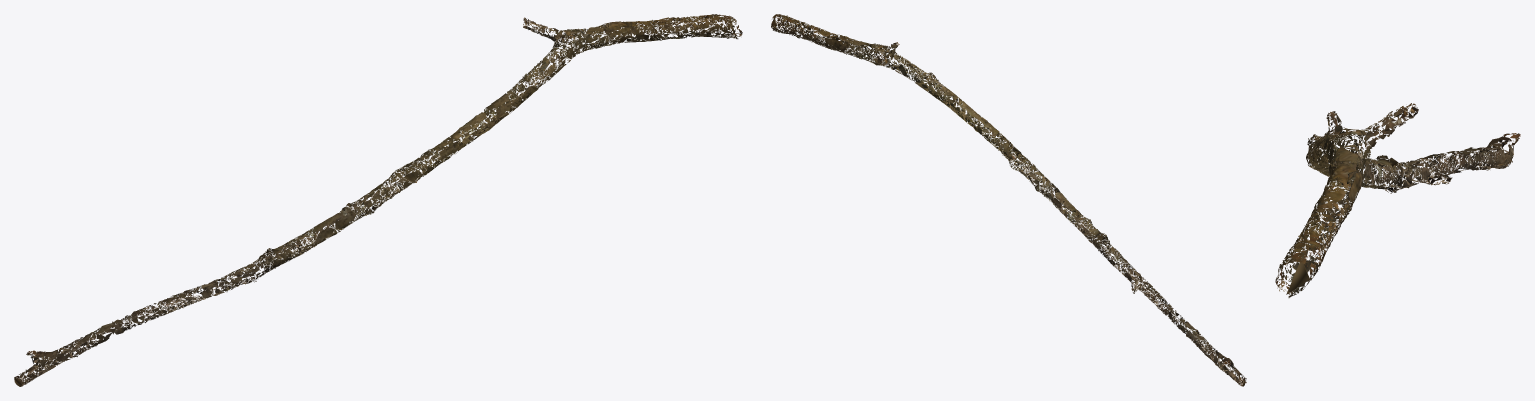
Rendered from stick_de_exu.glb.
3 views of the same model, side by side, from view 1: azimuth 30°, elevation 25°; view 2: azimuth 150°, elevation 25°; view 3: azimuth 270°, elevation 25° (orthographic). The views are drawn at different scales.
Parts seen in each view (by area): view 1: complete2_LOD0, complete2_LOD0_complete2_LOD0_u0_v0_0.003, complete2_LOD0_complete2_LOD0_u0_v0_0.007, complete2_LOD0_complete2_LOD0_u0_v0_0.006, complete2_LOD0_complete2_LOD0_u0_v0_0.001, complete2_LOD0_complete2_LOD0_u0_v0_0.005, complete2_LOD0_complete2_LOD0_u0_v0_0.002, complete2_LOD0_complete2_LOD0_u0_v0_0.008, complete2_LOD0_complete2_LOD0_u0_v0_0.004, complete2_LOD0_complete2_LOD0_u0_v0_0.009; view 2: complete2_LOD0, complete2_LOD0_complete2_LOD0_u0_v0_0.001, complete2_LOD0_complete2_LOD0_u0_v0_0.007, complete2_LOD0_complete2_LOD0_u0_v0_0.003, complete2_LOD0_complete2_LOD0_u0_v0_0.006, complete2_LOD0_complete2_LOD0_u0_v0_0.005, complete2_LOD0_complete2_LOD0_u0_v0_0.002, complete2_LOD0_complete2_LOD0_u0_v0_0.008, complete2_LOD0_complete2_LOD0_u0_v0_0.004, complete2_LOD0_complete2_LOD0_u0_v0_0.009; view 3: complete2_LOD0_complete2_LOD0_u0_v0_0.003, complete2_LOD0_complete2_LOD0_u0_v0_0.005, complete2_LOD0, complete2_LOD0_complete2_LOD0_u0_v0_0.007, complete2_LOD0_complete2_LOD0_u0_v0_0.004, complete2_LOD0_complete2_LOD0_u0_v0_0.002, complete2_LOD0_complete2_LOD0_u0_v0_0.006, complete2_LOD0_complete2_LOD0_u0_v0_0.009, complete2_LOD0_complete2_LOD0_u0_v0_0.008, complete2_LOD0_complete2_LOD0_u0_v0_0.001.
Part boxes in pixels (left/top/right/bottom): complete2_LOD0: left=14, top=14, right=742, bottom=386; complete2_LOD0_complete2_LOD0_u0_v0_0.003: left=531, top=17, right=738, bottom=84; complete2_LOD0_complete2_LOD0_u0_v0_0.007: left=18, top=260, right=267, bottom=383; complete2_LOD0_complete2_LOD0_u0_v0_0.006: left=117, top=203, right=359, bottom=333; complete2_LOD0_complete2_LOD0_u0_v0_0.001: left=358, top=73, right=531, bottom=217; complete2_LOD0_complete2_LOD0_u0_v0_0.005: left=252, top=18, right=609, bottom=279; complete2_LOD0_complete2_LOD0_u0_v0_0.002: left=384, top=14, right=730, bottom=197; complete2_LOD0_complete2_LOD0_u0_v0_0.008: left=23, top=241, right=313, bottom=379; complete2_LOD0_complete2_LOD0_u0_v0_0.004: left=524, top=17, right=735, bottom=84; complete2_LOD0_complete2_LOD0_u0_v0_0.009: left=181, top=16, right=687, bottom=301; complete2_LOD0: left=771, top=14, right=1246, bottom=386; complete2_LOD0_complete2_LOD0_u0_v0_0.001: left=920, top=71, right=1047, bottom=191; complete2_LOD0_complete2_LOD0_u0_v0_0.007: left=1107, top=239, right=1241, bottom=384; complete2_LOD0_complete2_LOD0_u0_v0_0.003: left=779, top=14, right=919, bottom=83; complete2_LOD0_complete2_LOD0_u0_v0_0.006: left=1045, top=184, right=1187, bottom=326; complete2_LOD0_complete2_LOD0_u0_v0_0.005: left=847, top=40, right=1118, bottom=254; complete2_LOD0_complete2_LOD0_u0_v0_0.002: left=773, top=15, right=1036, bottom=171; complete2_LOD0_complete2_LOD0_u0_v0_0.008: left=1045, top=187, right=1241, bottom=386; complete2_LOD0_complete2_LOD0_u0_v0_0.004: left=778, top=22, right=918, bottom=80; complete2_LOD0_complete2_LOD0_u0_v0_0.009: left=799, top=23, right=1150, bottom=293; complete2_LOD0_complete2_LOD0_u0_v0_0.003: left=1277, top=129, right=1370, bottom=288; complete2_LOD0_complete2_LOD0_u0_v0_0.005: left=1332, top=106, right=1417, bottom=188; complete2_LOD0: left=1275, top=134, right=1512, bottom=297; complete2_LOD0_complete2_LOD0_u0_v0_0.007: left=1376, top=133, right=1520, bottom=184; complete2_LOD0_complete2_LOD0_u0_v0_0.004: left=1278, top=103, right=1415, bottom=291; complete2_LOD0_complete2_LOD0_u0_v0_0.002: left=1281, top=135, right=1360, bottom=271; complete2_LOD0_complete2_LOD0_u0_v0_0.006: left=1348, top=152, right=1464, bottom=192; complete2_LOD0_complete2_LOD0_u0_v0_0.009: left=1307, top=106, right=1452, bottom=225; complete2_LOD0_complete2_LOD0_u0_v0_0.008: left=1383, top=138, right=1519, bottom=193; complete2_LOD0_complete2_LOD0_u0_v0_0.001: left=1307, top=136, right=1362, bottom=186.
Bounding box in the file's own units: 54.37 × 21.64 × 10.99.
Materials: 2 (2 with a texture image).
